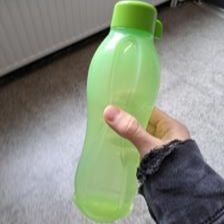bottle: (71, 1, 165, 224)
